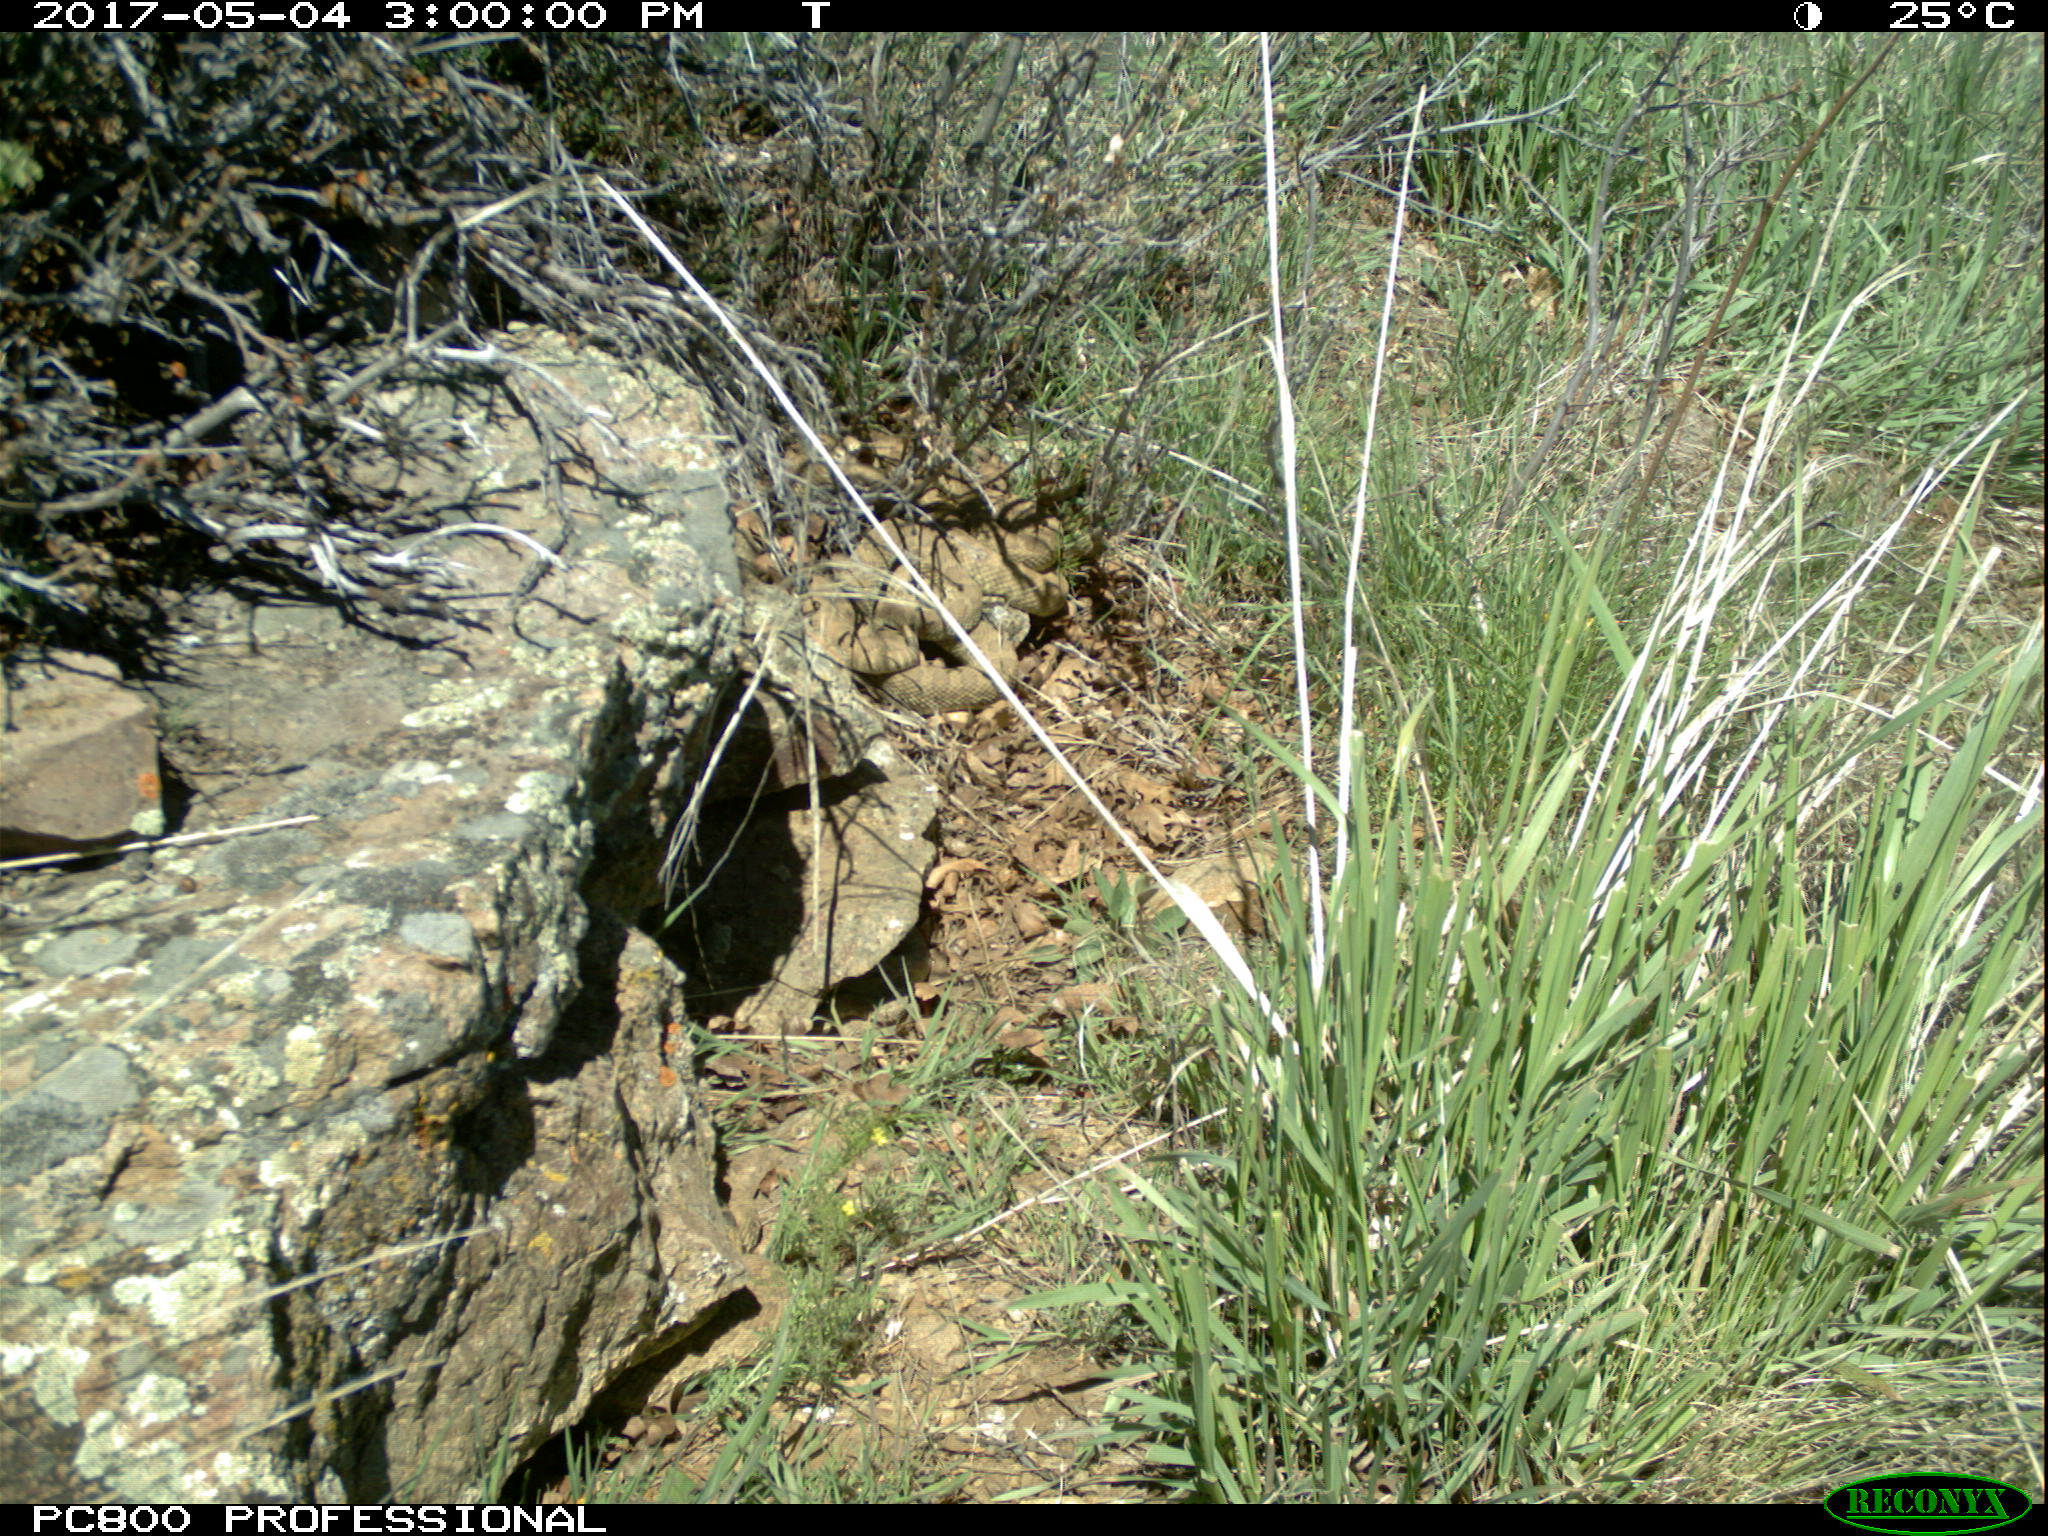snake: (810, 502, 1100, 707)
